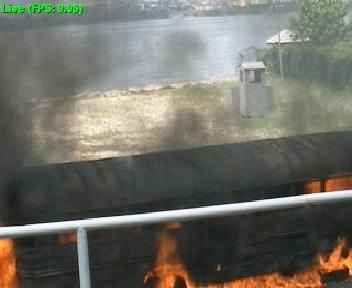fire: (145, 228, 352, 288), (2, 238, 17, 285)
smoke: (3, 15, 92, 172), (281, 37, 352, 132)
